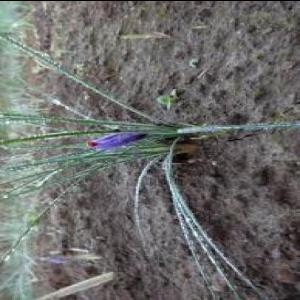Saffron: (85, 126, 150, 150)
